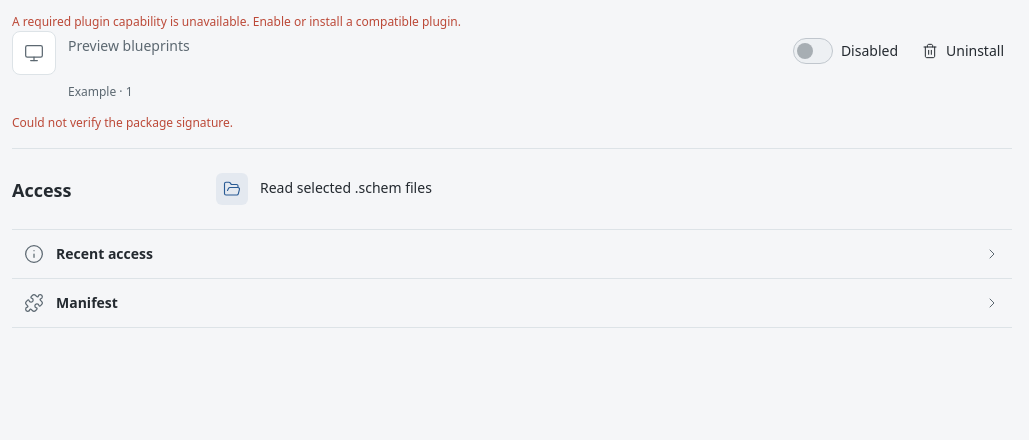
Test: shows concrete access immediately and loads recent access only when expanded
Expected: the element showing "Access Read selected .schem files" is shown, 12,173 -> 432,205
Click the button "Recent access" at (104, 254), box 12,230 -> 1012,278
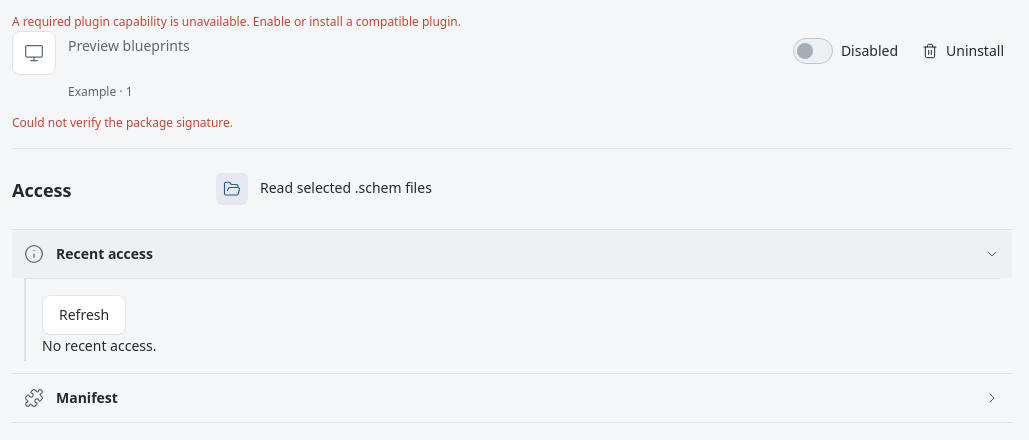
Now the element showing "Refresh No recent access." is shown, box 42,295 -> 156,355
